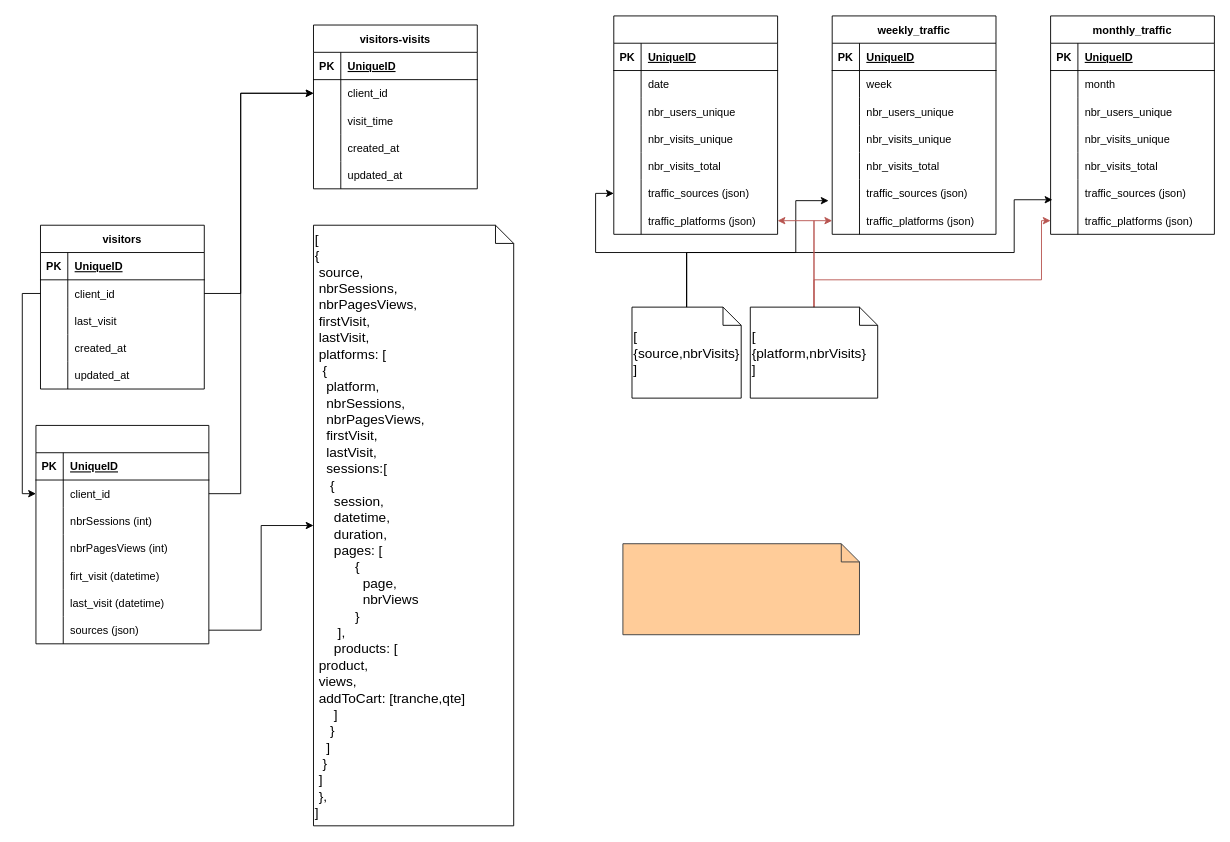
Some shapes in this 1230 by 842 pixel diagram are drawn without their labels. The shapes that lost their labels are listed below. From the top down, each one's box as (x1, y1, x2, y2) in pixels, then its label:
(613, 15, 778, 234): daily_traffic
(35, 425, 209, 644): Users
(622, 543, 859, 635): users pages + users products
